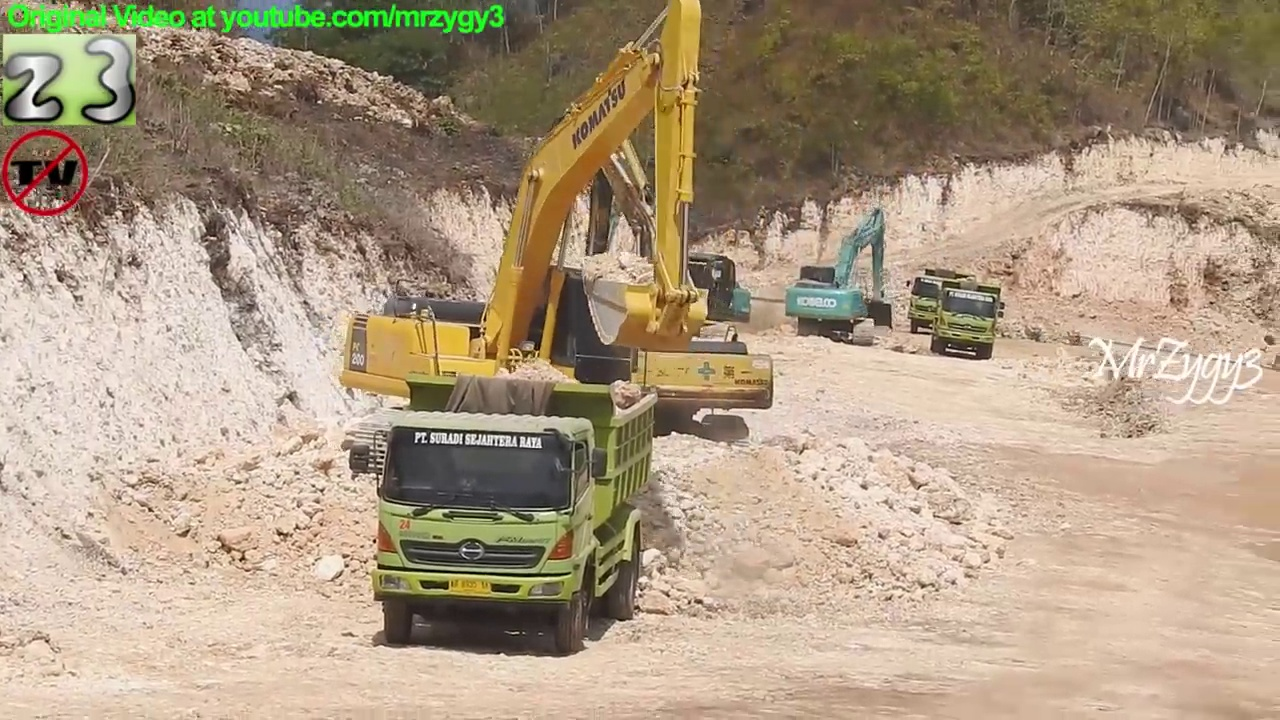excavator: (336, 1, 715, 493), (478, 90, 779, 448), (589, 127, 758, 352), (784, 202, 896, 351)
truck: (348, 371, 661, 659), (929, 279, 1007, 365), (903, 265, 979, 337)
